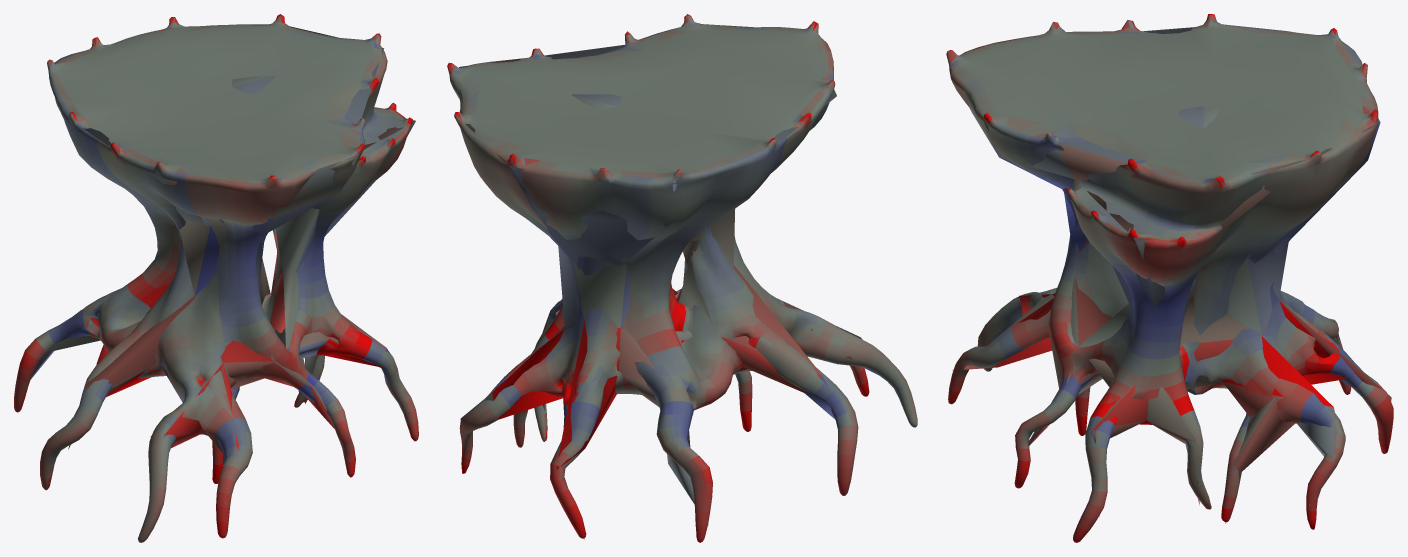
The model's file is fungusMed_04.fbx.
3 views of the same model, side by side, from view 1: azimuth 30°, elevation 25°; view 2: azimuth 150°, elevation 25°; view 3: azimuth 270°, elevation 25° (orthographic). The views are drawn at different scales.
Visible parts, largest first — view 1: fungus_med_04_LOD0, fungus_med_04_COL; view 2: fungus_med_04_LOD0, fungus_med_04_COL; view 3: fungus_med_04_LOD0, fungus_med_04_COL.
Boxes of the visible parts, x1,y1,x2,y2 form: fungus_med_04_LOD0: [14, 14, 418, 542]; fungus_med_04_COL: [15, 24, 415, 504]; fungus_med_04_LOD0: [447, 14, 917, 542]; fungus_med_04_COL: [459, 24, 877, 539]; fungus_med_04_LOD0: [946, 14, 1393, 542]; fungus_med_04_COL: [952, 27, 1391, 523].
Size of what is drawn, in the model's own units: 11.54 by 10.89 by 11.27.
